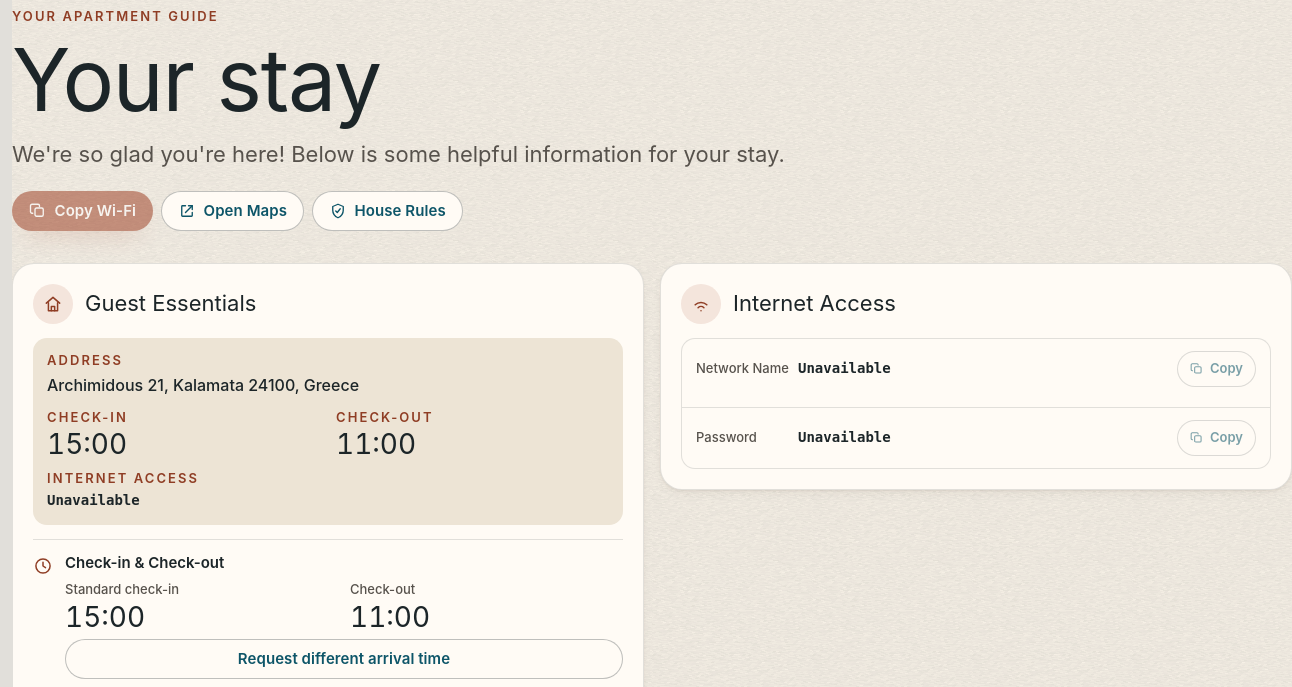
check-in arrival-time request › shows the localized error instead of the server message
Click the button "Request different arrival time" at {"x": 344, "y": 659}, box [65,639,623,679]
(page scrolled)
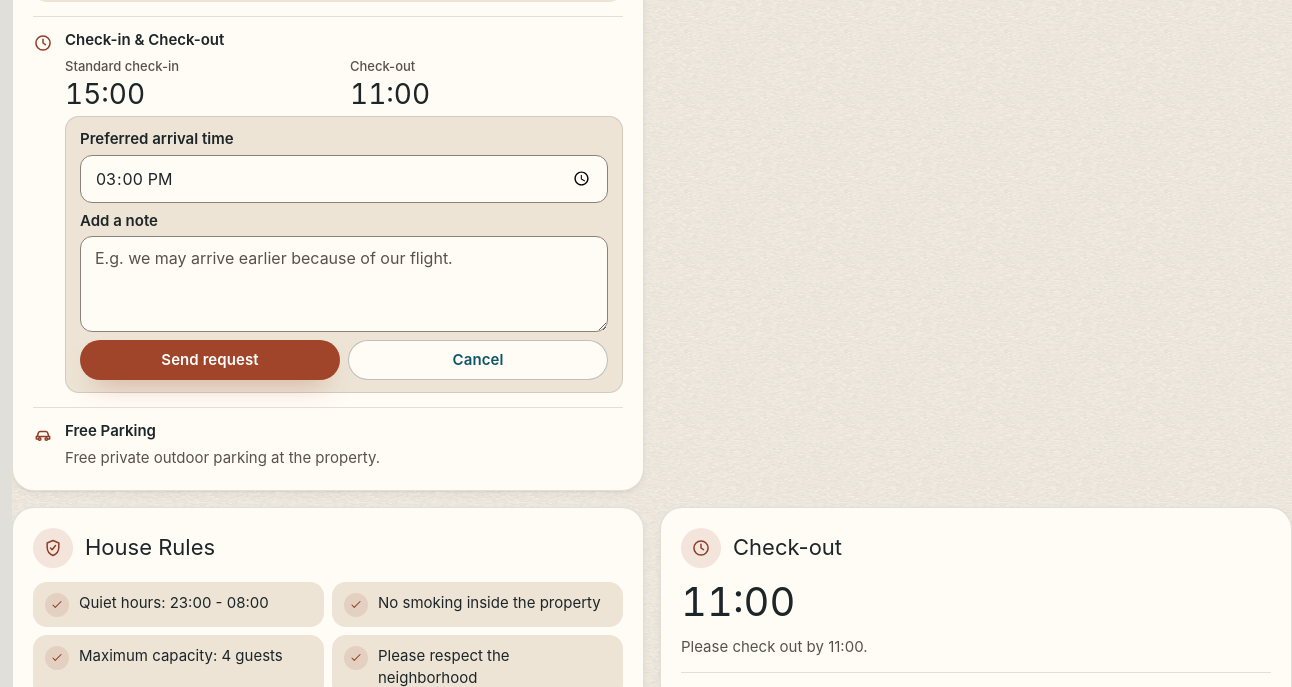
Click the button "Send request" at {"x": 210, "y": 360}, box [80,340,340,380]
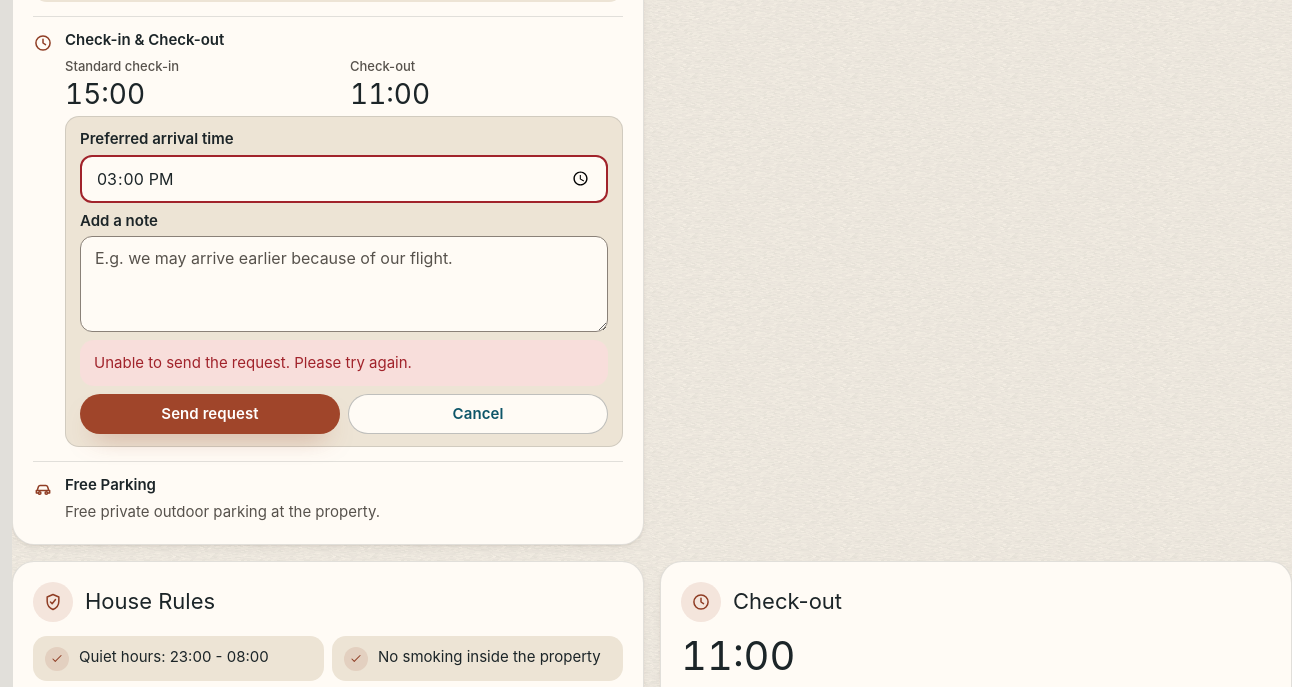
Expected: the message reads "Unable to send the request. Please try again.", [94,353,412,372]
